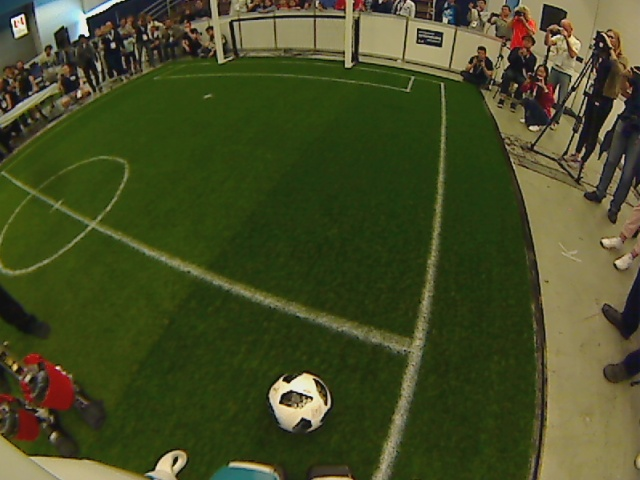ball: (267, 369, 334, 438)
